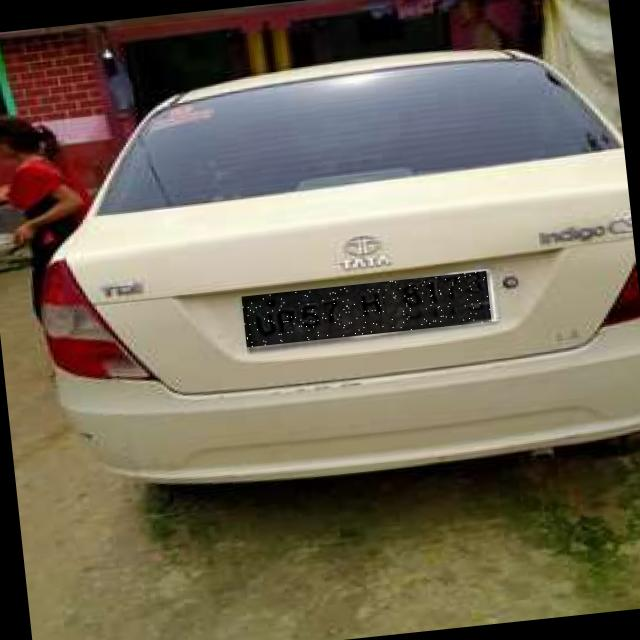Plate: (242, 272, 492, 348)
